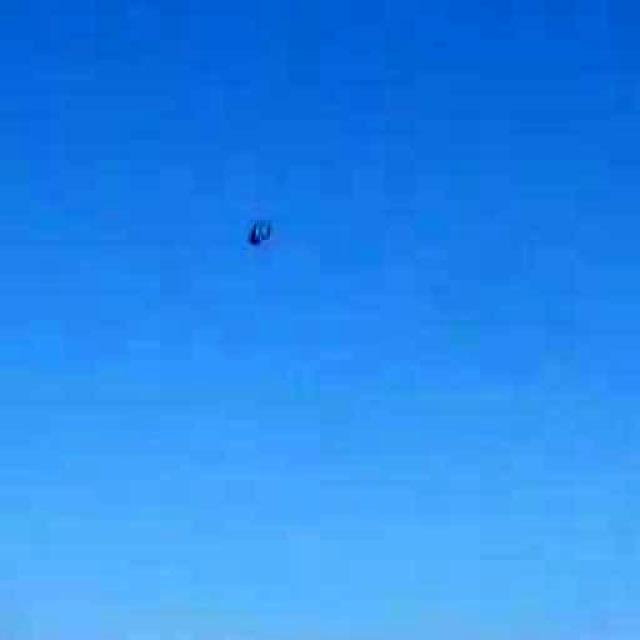drone: (220, 196, 298, 266)
